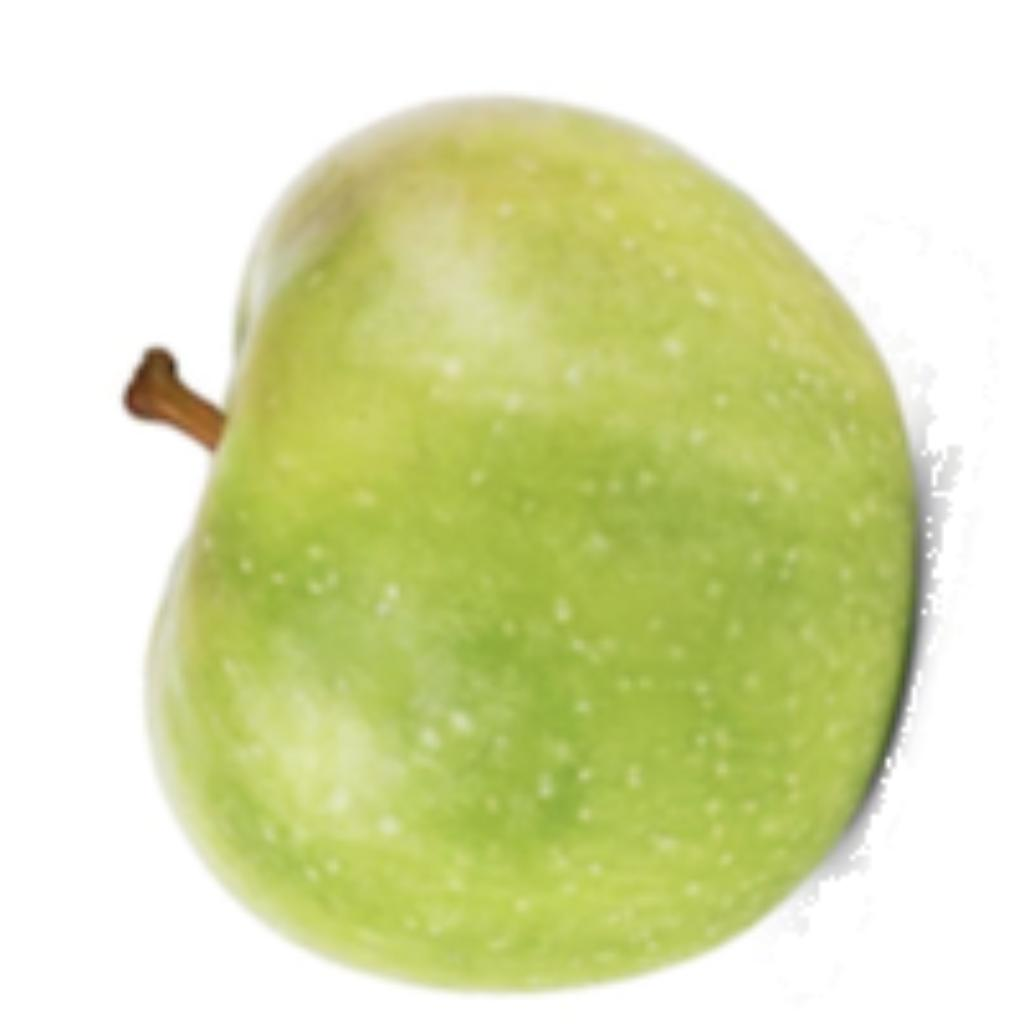apple: (113, 87, 973, 998)
